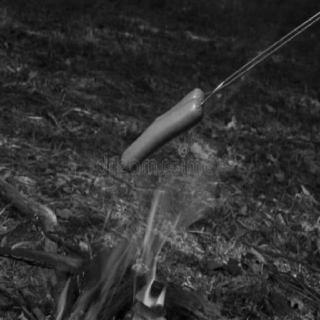Fire: (60, 67, 248, 311)
